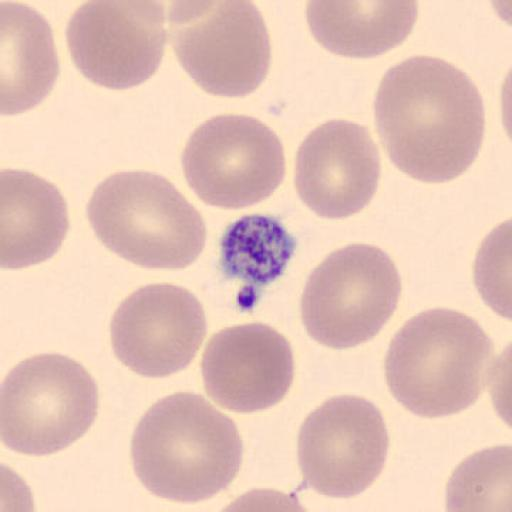Platelet: (216, 210, 300, 288)
RBC: (371, 53, 488, 187), (128, 390, 246, 506), (382, 304, 494, 422), (85, 168, 208, 272), (298, 240, 403, 352), (178, 111, 286, 213), (2, 350, 102, 458), (295, 392, 392, 502), (169, 0, 273, 100), (108, 281, 208, 381), (64, 0, 168, 92), (292, 116, 382, 221), (199, 320, 296, 416), (2, 167, 71, 272), (304, 0, 420, 62), (1, 1, 60, 117), (443, 441, 512, 511), (472, 215, 512, 322), (204, 485, 318, 512), (166, 0, 258, 27), (488, 339, 512, 437), (1, 461, 37, 512), (167, 0, 226, 24), (499, 53, 512, 156), (488, 0, 512, 28)
